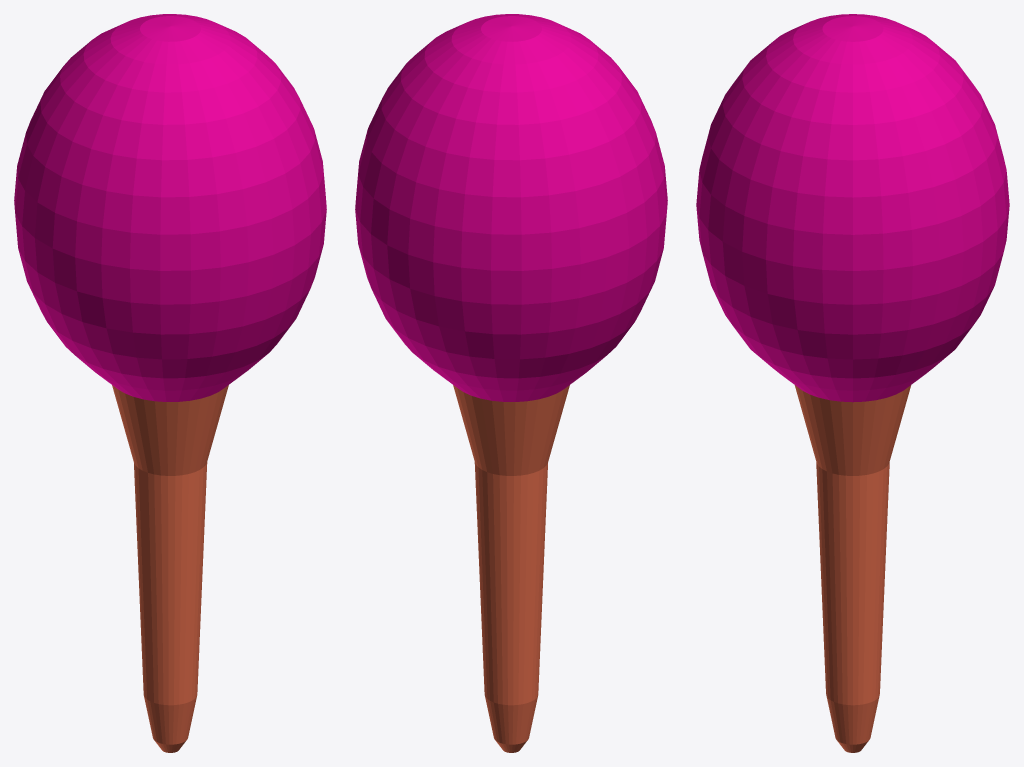
Rendered from maracas-gold 2.glb.
3 views of the same model, side by side, from view 1: azimuth 30°, elevation 25°; view 2: azimuth 150°, elevation 25°; view 3: azimuth 270°, elevation 25° (orthographic).
Parts seen in each view (by area): view 1: Sphere.001; view 2: Sphere.001; view 3: Sphere.001.
Boxes of the visible parts, box(x1,y1,x2,y2) form: Sphere.001: box(14, 14, 326, 752); Sphere.001: box(355, 14, 667, 752); Sphere.001: box(696, 14, 1009, 752).
Size of the model in its own units: 1.57 by 4 by 1.57.
